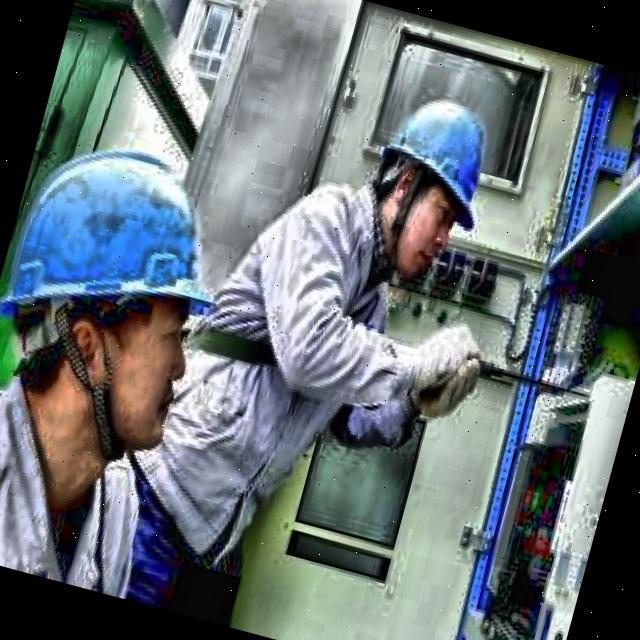helmet: (0, 103, 258, 480), (345, 66, 513, 296)
